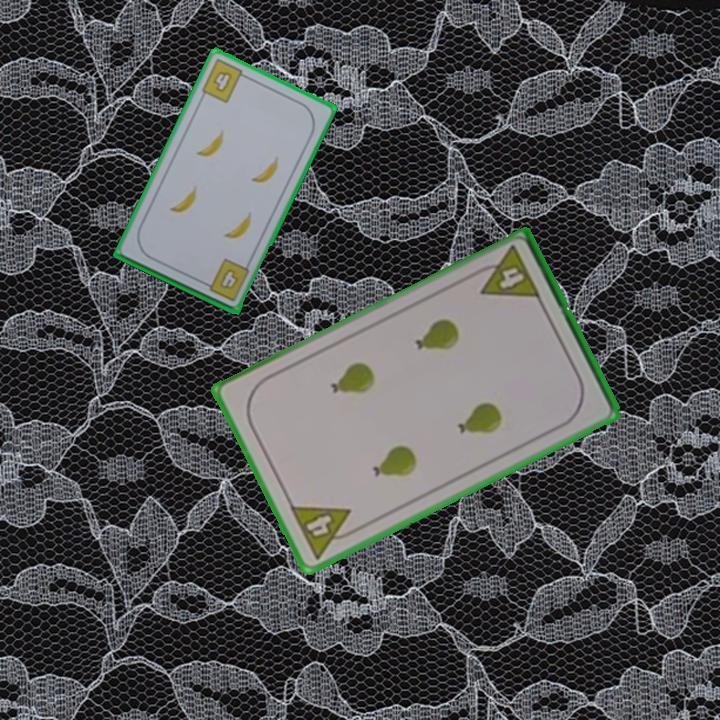4b: (198, 55, 252, 106), (199, 255, 252, 304)
4p: (286, 502, 363, 563), (469, 242, 544, 303)
